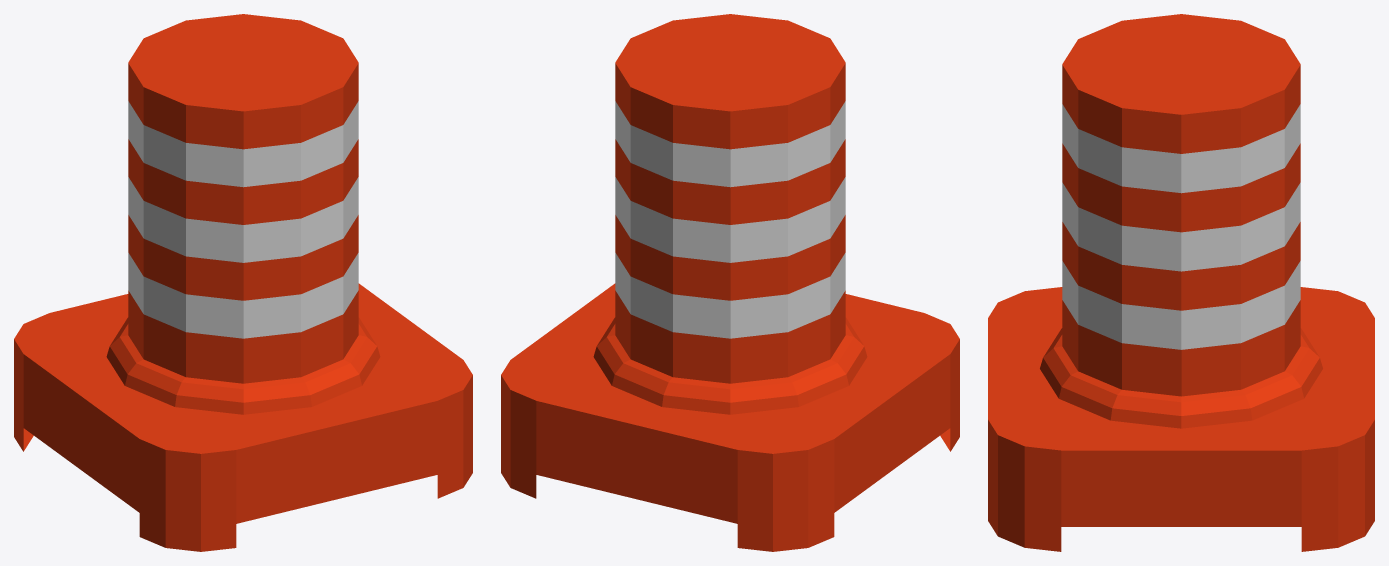
3 renders of one model, left to right at view 1: azimuth 30°, elevation 25°; view 2: azimuth 150°, elevation 25°; view 3: azimuth 270°, elevation 25°, orthographic. The views are drawn at different scales.
Visible parts, largest first — view 1: O2; view 2: O2; view 3: O2.
Boxes of the visible parts, bbox=[...] form: O2: bbox=[14, 14, 472, 551]; O2: bbox=[501, 14, 959, 551]; O2: bbox=[988, 14, 1374, 551].
Size of the model in its own units: 173 by 200 by 173.
